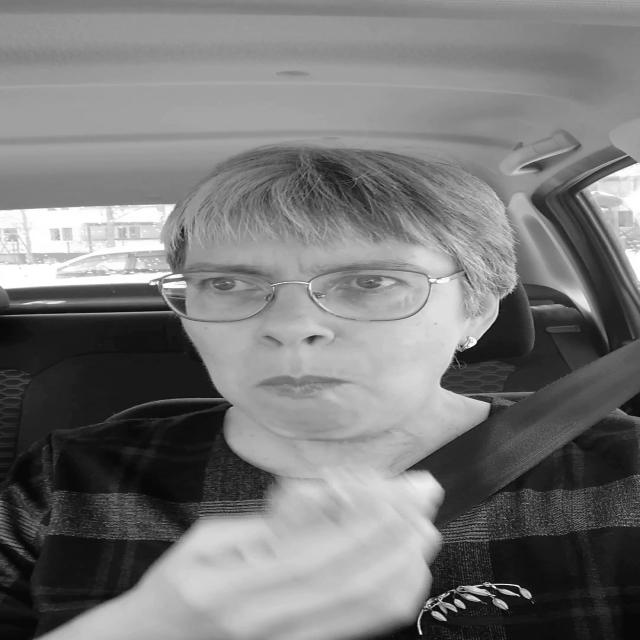Eating: (264, 458, 454, 562)
Seatbelt: (426, 340, 634, 522)
